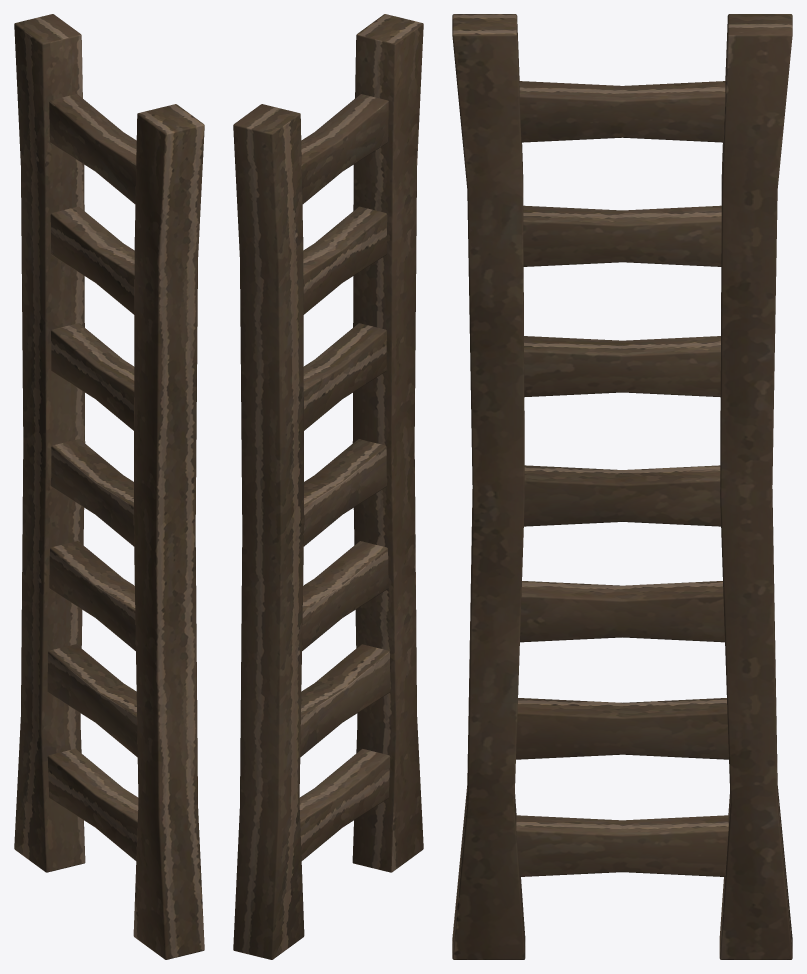
File: Echelle.fbx
3 views of the same model, side by side, from view 1: azimuth 30°, elevation 25°; view 2: azimuth 150°, elevation 25°; view 3: azimuth 270°, elevation 25° (orthographic). The views are drawn at different scales.
Parts seen in each view (by area): view 1: Echelle; view 2: Echelle; view 3: Echelle.
Boxes of the visible parts, <box> form: Echelle: <box>14,14,204,959</box>; Echelle: <box>233,14,423,959</box>; Echelle: <box>452,14,792,959</box>.
Bounding box in the file's own units: 15.11 × 300 × 99.91.
